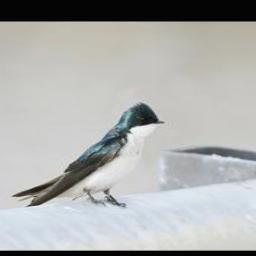Swallow: (10, 99, 168, 211)
